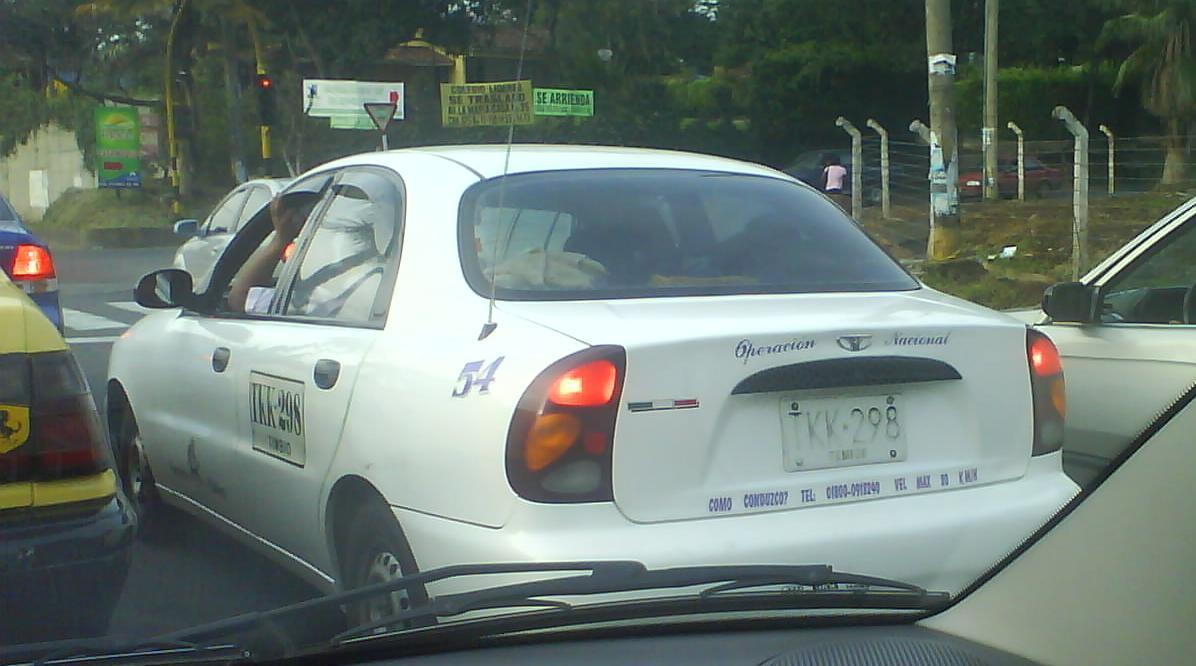placas: (772, 388, 915, 474), (241, 361, 312, 472)
